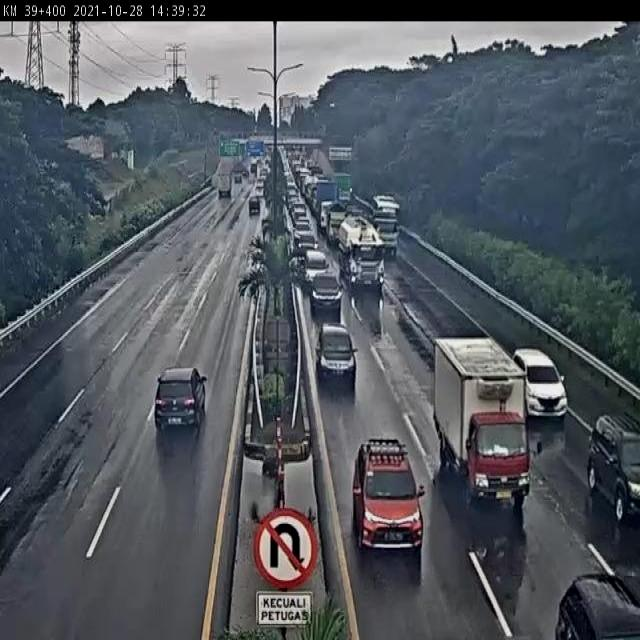Bus: (370, 194, 400, 214)
Car: (350, 437, 425, 554), (585, 415, 640, 524), (554, 571, 640, 638), (514, 347, 568, 420), (155, 366, 208, 437), (314, 323, 358, 382), (310, 270, 344, 312), (302, 248, 332, 290), (296, 234, 320, 252), (249, 194, 260, 215)
Truck: (431, 334, 546, 512), (336, 213, 386, 293), (369, 210, 403, 258), (314, 179, 340, 231), (327, 200, 349, 245), (330, 172, 354, 205), (216, 170, 233, 198), (234, 170, 242, 183)
